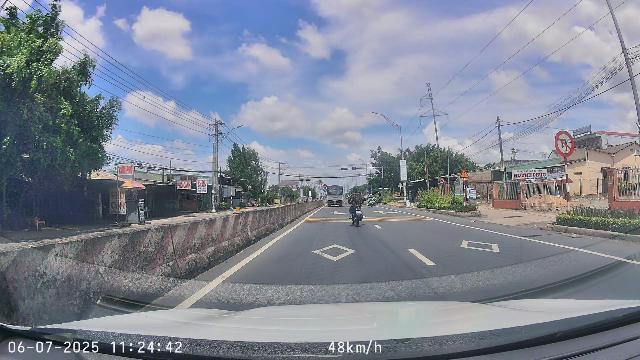103a-cam-oto: (439, 178, 444, 183)
124b-cam-oto-quay-dau-xe: (555, 130, 574, 157)
209-giao-nhau-co-tin-hieu-den: (459, 169, 469, 178)
